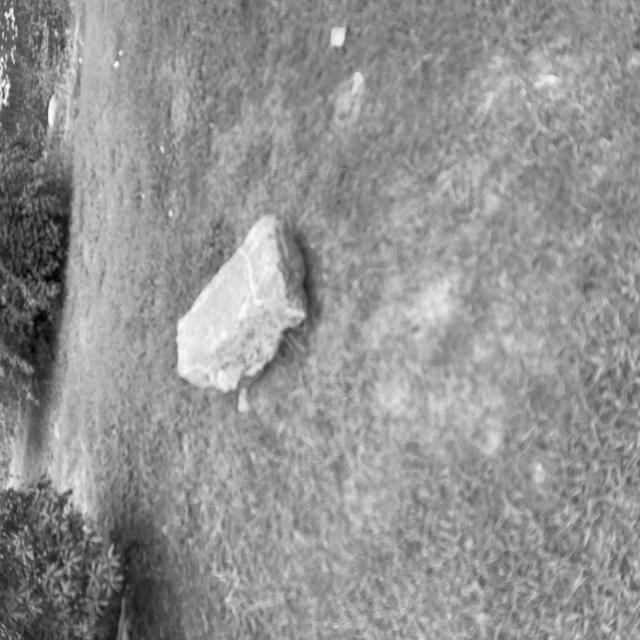Stone: (178, 215, 306, 391)
